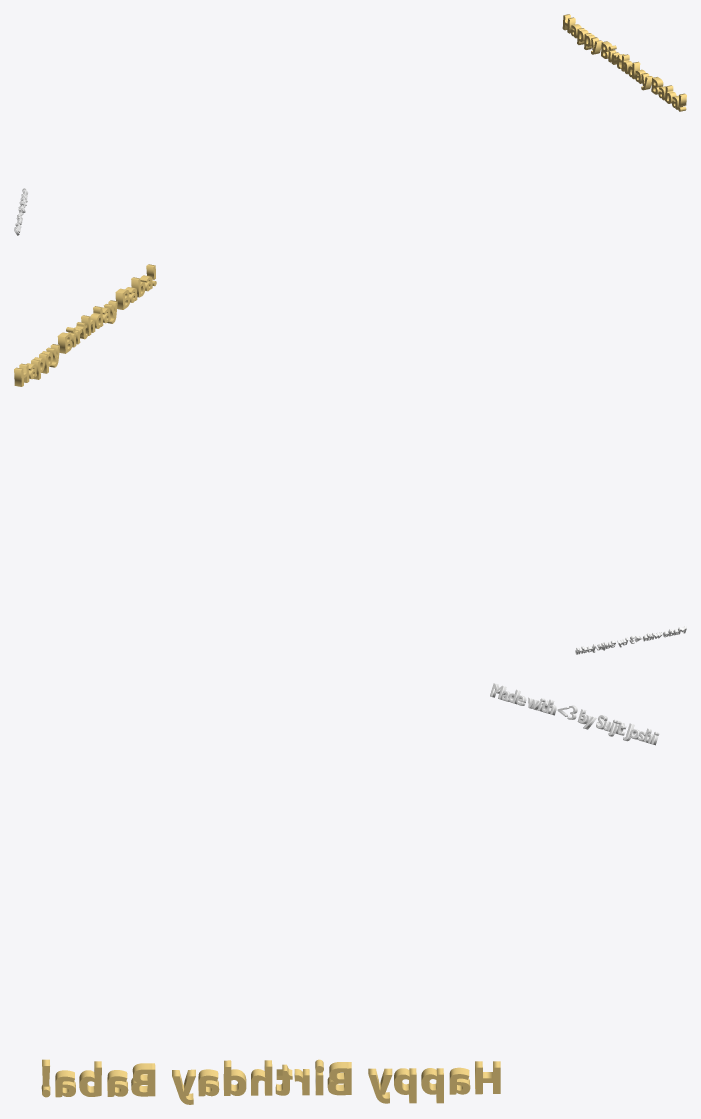
Rendered from wishesDad.gltf.
3 renders of one model, top to bottom at view 1: azimuth 30°, elevation 25°; view 2: azimuth 150°, elevation 25°; view 3: azimuth 270°, elevation 25°, orthographic. The views are drawn at different scales.
Visible parts, largest first — view 1: Text.001; view 2: Text.001, Text; view 3: Text.001, Text.
Boxes of the visible parts, x1,y1,x2,y2 form: Text.001: [562, 14, 686, 111]; Text.001: [14, 264, 156, 386]; Text: [575, 626, 686, 654]; Text.001: [41, 1059, 500, 1104]; Text: [490, 683, 659, 745].
Size of the model in its own units: 24.81 by 3.79 by 11.86.
